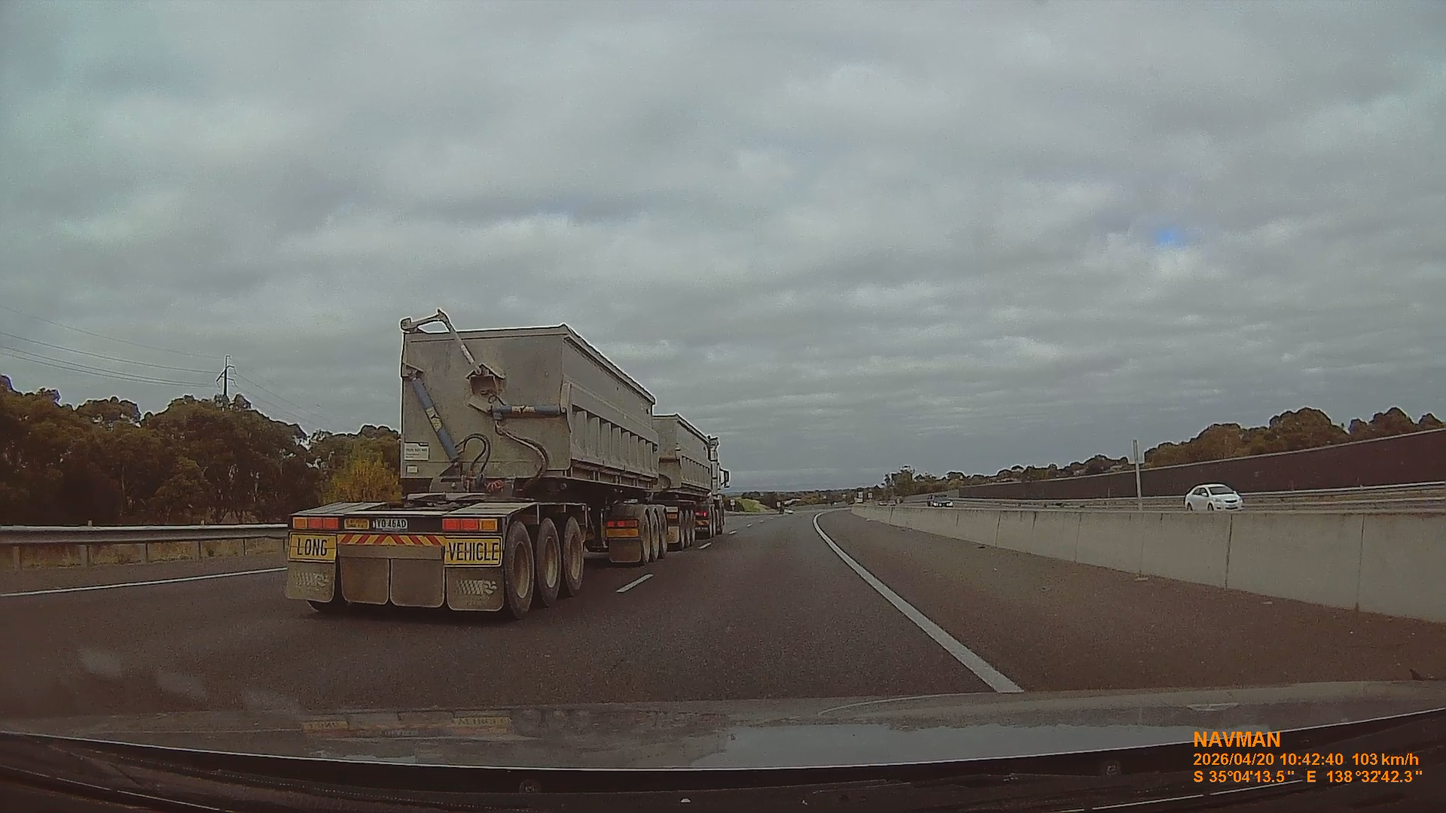road barriers: (836, 495, 1444, 620), (1, 523, 284, 568)
